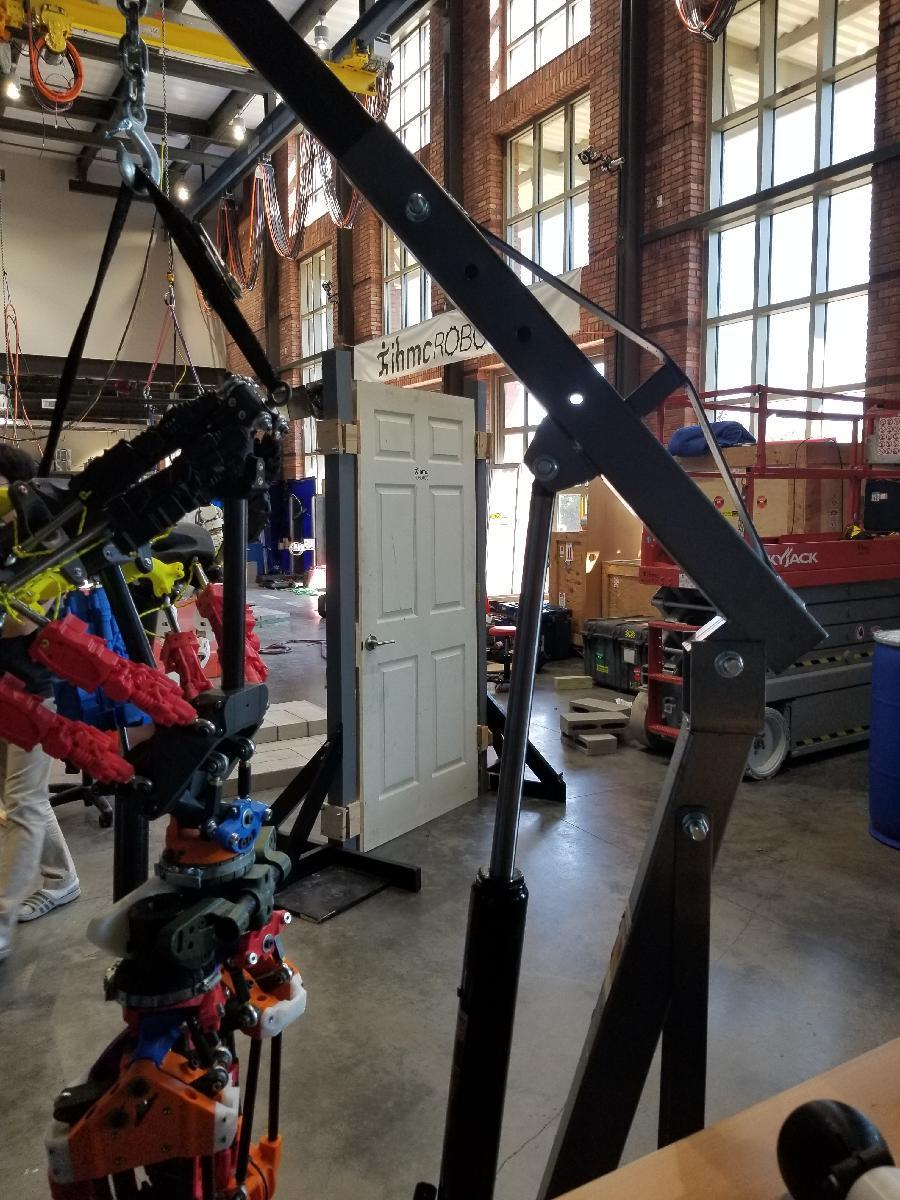door: (355, 386, 483, 834)
handle: (365, 633, 397, 651)
